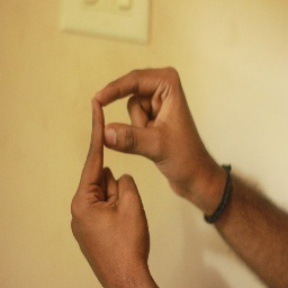P: (65, 60, 200, 234)
